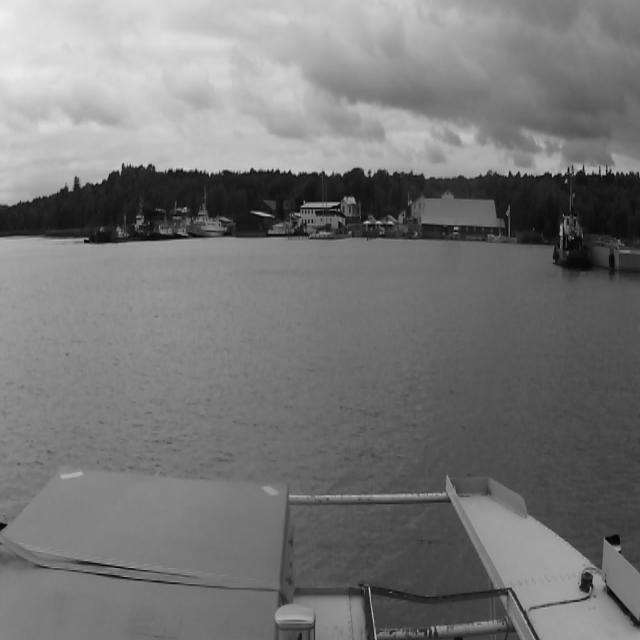ship: (554, 162, 592, 268), (308, 182, 332, 242), (114, 210, 148, 242), (188, 209, 228, 236), (146, 220, 172, 240), (175, 228, 187, 240), (452, 226, 460, 240)
